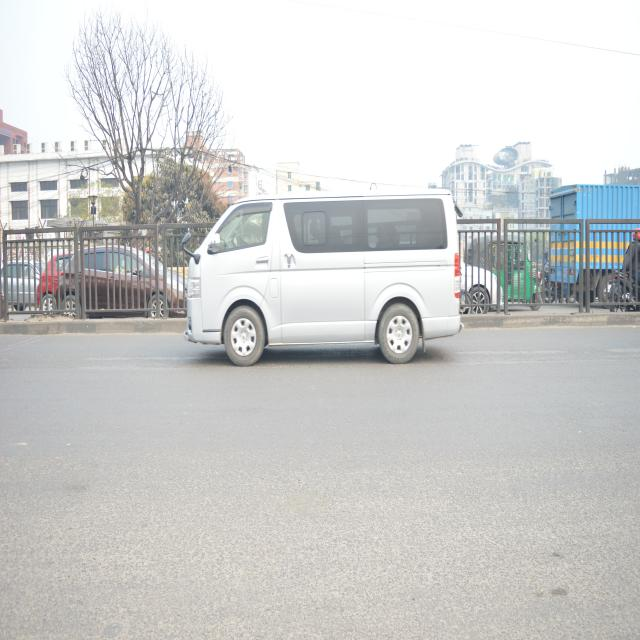car: (54, 233, 184, 327)
microbus: (174, 172, 470, 384)
pickup-van: (544, 176, 640, 301)
